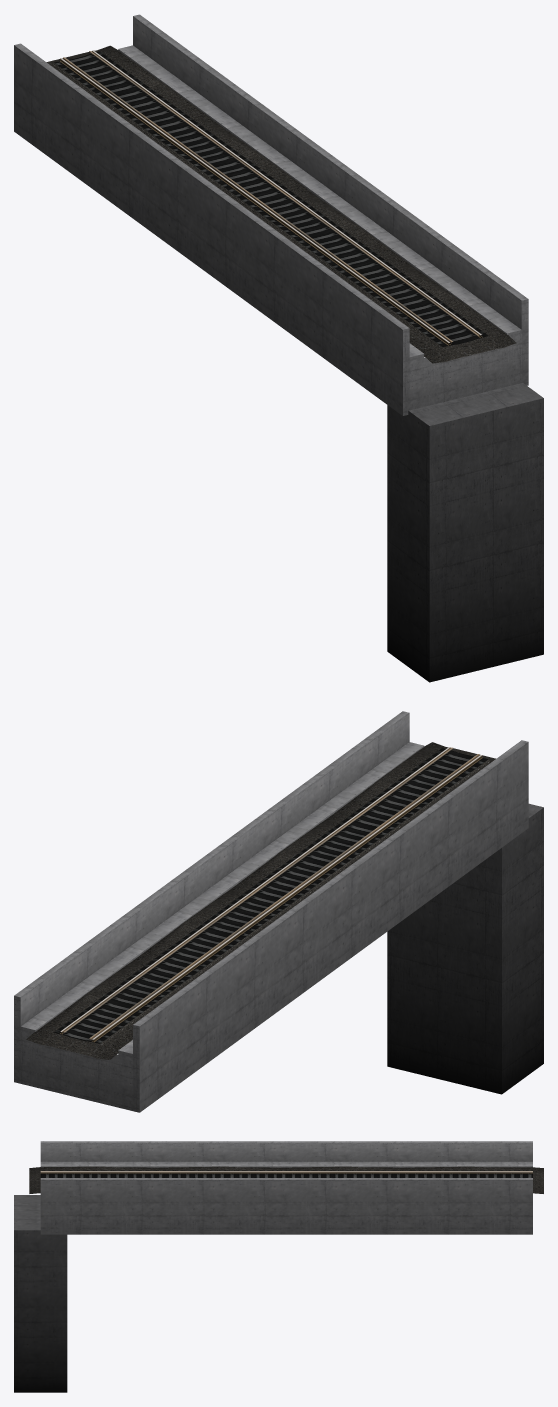
File: KH_1RAIL_KOUKA100.glb
The picture shows the model from 3 angles, top to bottom: view 1: azimuth 30°, elevation 25°; view 2: azimuth 150°, elevation 25°; view 3: azimuth 270°, elevation 25°; orthographic projection. The views are drawn at different scales.
Parts seen in each view (by area): view 1: Jari_All, R000_RG_R, R000_RG_L; view 2: Jari_All, R000_RG_R, R000_RG_L; view 3: Jari_All, R000_RG_R.
Boxes of the visible parts, <box> form: Jari_All: <box>14,14,543,682</box>; R000_RG_R: <box>63,57,452,343</box>; R000_RG_L: <box>89,51,479,335</box>; Jari_All: <box>14,711,543,1112</box>; R000_RG_R: <box>89,754,479,1040</box>; R000_RG_L: <box>63,747,453,1033</box>; Jari_All: <box>14,1141,543,1392</box>; R000_RG_R: <box>40,1171,532,1172</box>.
Size of the model in its own units: 18.66 by 48.06 by 108.
7 materials, 6 textured.
